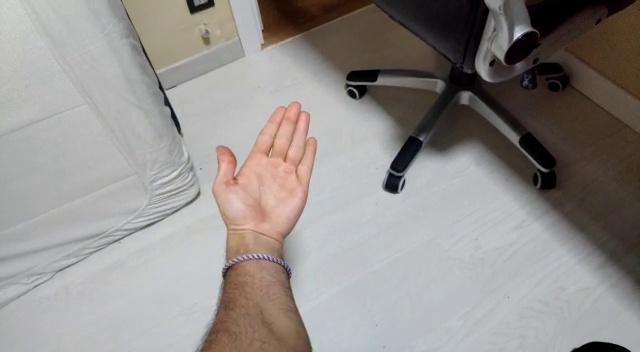Palm: (206, 100, 319, 229)
